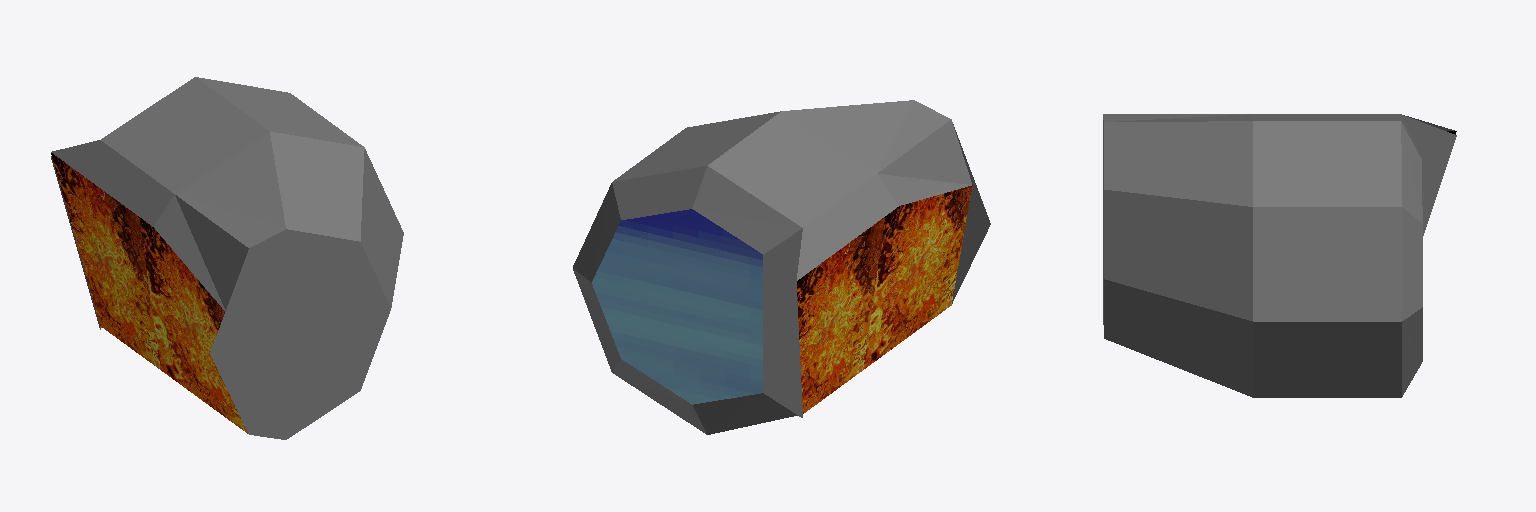
3 renders of one model, left to right at view 1: azimuth 30°, elevation 25°; view 2: azimuth 150°, elevation 25°; view 3: azimuth 270°, elevation 25°, orthographic.
Visible parts, largest first — view 1: Runabout_Ship_Cockpit; view 2: Runabout_Ship_Cockpit; view 3: Runabout_Ship_Cockpit.
Part boxes in pixels (x1,y1,x2,y2): Runabout_Ship_Cockpit: (51,77,403,439); Runabout_Ship_Cockpit: (573,100,990,434); Runabout_Ship_Cockpit: (1103,114,1456,397).
Bounding box in the file's own units: 2.09 × 2 × 2.38.
5 materials, 2 textured.